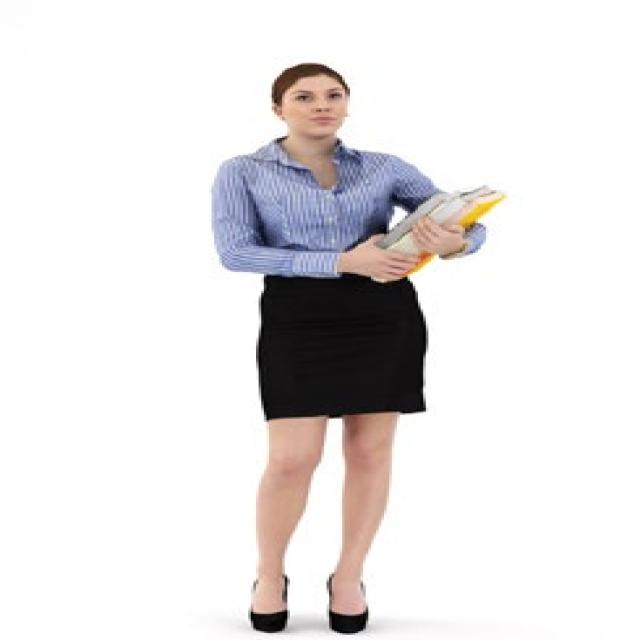standing: (211, 60, 486, 640)
